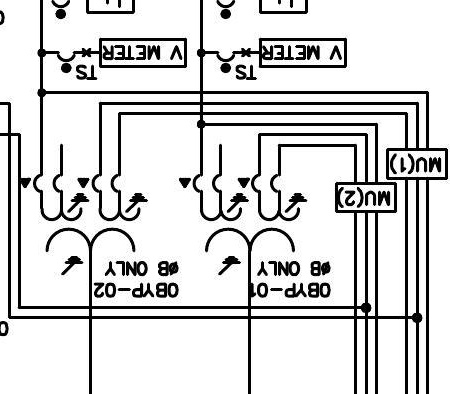115_vt_1p: (19, 173, 149, 275), (178, 173, 308, 275)
MU: (385, 147, 449, 181), (334, 181, 398, 214)
v_m_digital: (258, 37, 348, 69), (98, 37, 188, 69)
